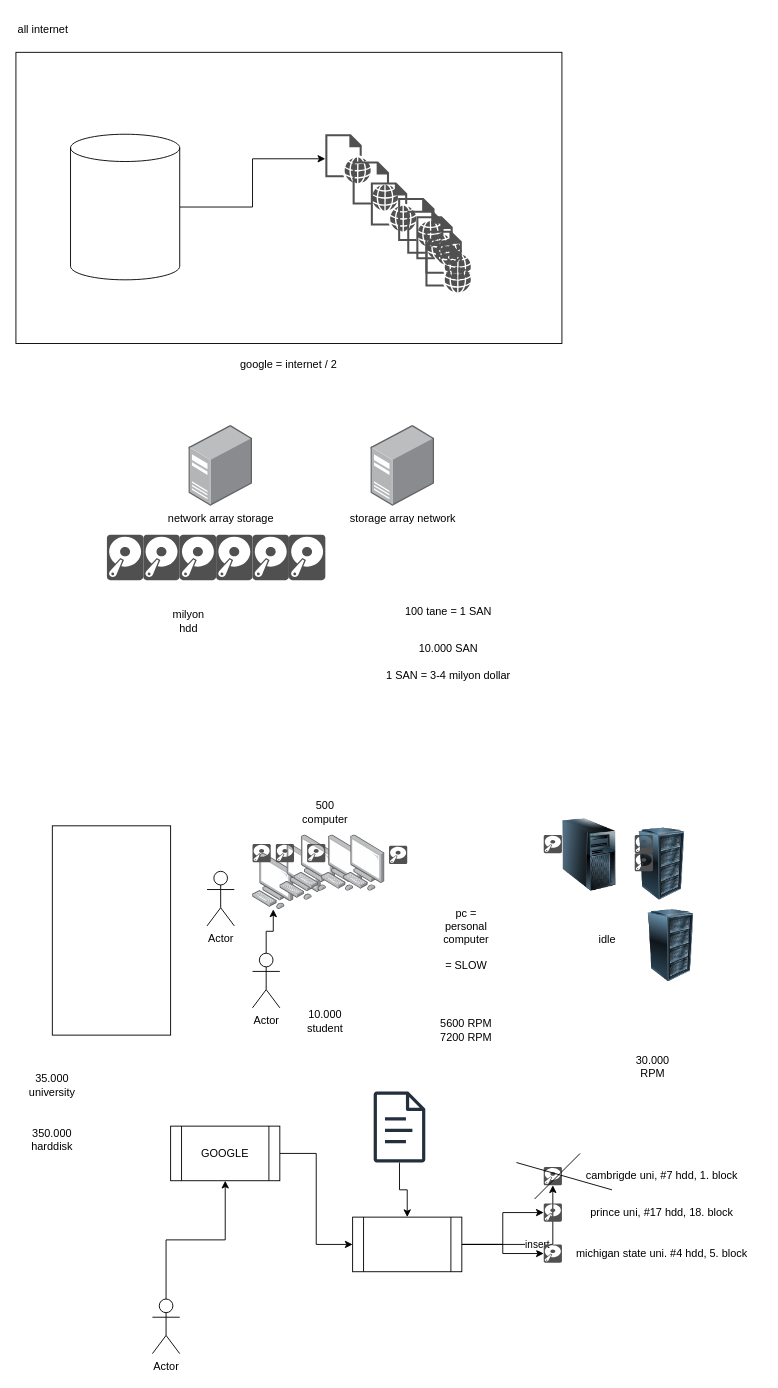
Some shapes in this 778 by 1388 pixel diagram are drawn without their labels. Here are the shapes that lost their labels. From the top down, the centre of each, then its label:
At (125,206): "google ne kadar veri vardir?".
At (407,1244): "HADOOP".
